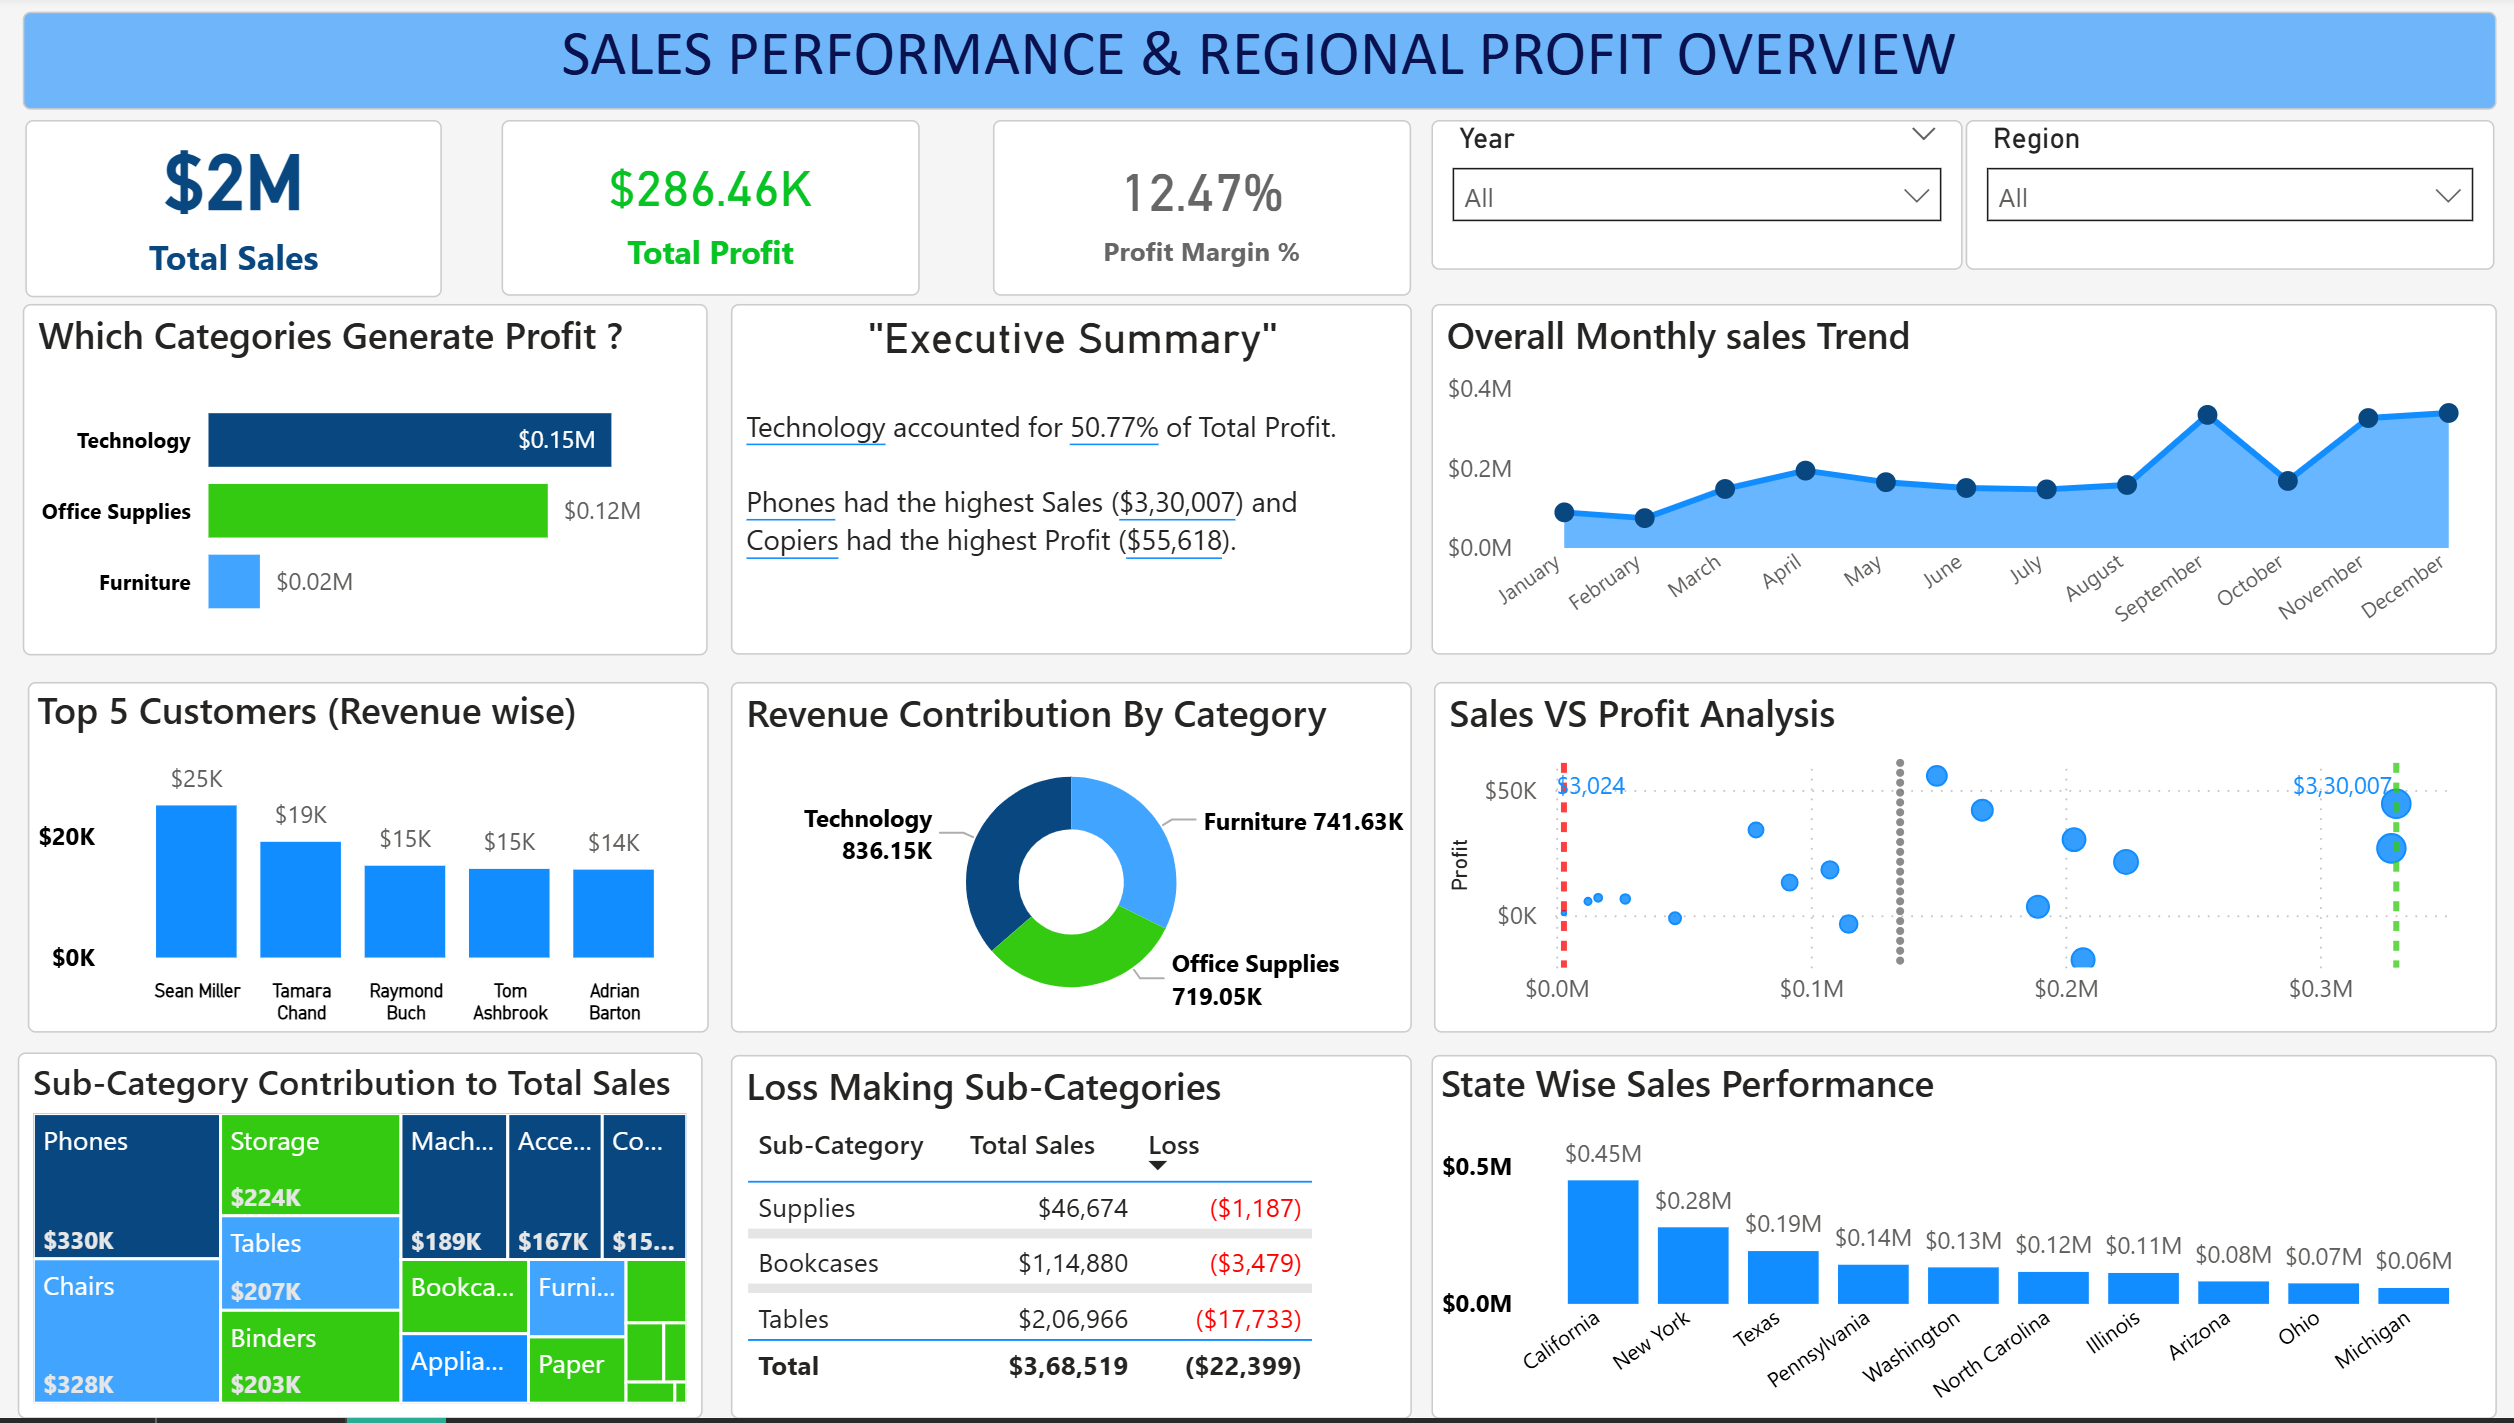

The page's visual inventory and layout, read from the dashboard file:
{"tool":"powerbi","page":{"name":"Page 1","canvas":[1280,720],"ordinal":0},"visuals":[{"type":"barChart","title":"Which Categories Generate Profit ?","fields":{"Category":["products.Category"],"Y":["customers.total_profit"]},"box":[16.9,156.3,346.4,177.8],"z":0},{"type":"card","fields":{"Values":["customers.total_sales"]},"box":[17.3,63.4,210.9,89.9],"z":1000},{"type":"card","fields":{"Values":["customers.total_profit"]},"box":[258.3,63.4,211.4,88.7],"z":2000},{"type":"scatterChart","title":"Sales VS Profit Analysis","fields":{"X":["customers.total_sales"],"Y":["customers.total_profit"],"Size":["customers.total_sales"],"Category":["products.Sub-Category"]},"box":[730.6,348.4,537.5,177.4],"z":3000},{"type":"areaChart","title":"Overall Monthly sales Trend","fields":{"Y":["customers.total_sales"],"Category":["date.Month Name"]},"box":[729.3,156.6,538.8,177.4],"z":4000},{"type":"donutChart","title":"Revenue Contribution By Category","fields":{"Y":["Sum(orders.Sales)"],"Category":["products.Category"]},"box":[374.5,348.4,344.4,177.4],"z":5000},{"type":"card","fields":{"Values":["customers.profit_margin%"]},"box":[507.5,63.4,211.4,88.7],"z":6000},{"type":"tableEx","title":"Loss Making Sub-Categories","fields":{"Values":["products.Sub-Category","Table.total_sales","Table.total_profit"]},"box":[374.5,536.2,344.4,184],"z":7000},{"type":"treemap","title":"Sub-Category Contribution to Total Sales","fields":{"Group":["products.Sub-Category"],"Values":["Table.total_sales"]},"box":[13.8,535,346.4,185.5],"z":8000},{"type":"clusteredColumnChart","title":"State Wise Sales Performance","fields":{"Category":["customers.State"],"Y":["Table.total_sales"]},"box":[729.3,536.2,538.8,184],"z":9000},{"type":"clusteredColumnChart","title":"Top 5 Customers (Revenue wise)","fields":{"Category":["customers.Customer Name"],"Y":["Table.total_sales"]},"box":[19.6,348.4,344.4,177.4],"z":10000},{"type":"textbox","box":[17,9.1,1251.2,49.6],"z":11000},{"type":"slicer","fields":{"Values":["date.Year"]},"box":[729.3,63.4,268.8,75.7],"z":12000},{"type":"slicer","fields":{"Values":["customers.Region"]},"box":[999.4,63.4,267.5,75.7],"z":13000},{"type":"textbox","title":"      \"Executive Summary\"","box":[374.5,156.6,344.4,177.4],"z":14000}]}

Visuals, with their boxes in screenshot pixels (x1, y1, x2, y2), scaled from the page's 1280x720 canvas onto the 2514x1423 screenshot:
"Which Categories Generate Profit ?" barChart: 33 309 714 660
card - customers.total_sales: 34 125 448 303
card - customers.total_profit: 507 125 923 301
"Sales VS Profit Analysis" scatterChart: 1435 689 2491 1039
"Overall Monthly sales Trend" areaChart: 1432 310 2491 660
"Revenue Contribution By Category" donutChart: 736 689 1412 1039
card - customers.profit_margin%: 997 125 1412 301
"Loss Making Sub-Categories" tableEx: 736 1060 1412 1422
"Sub-Category Contribution to Total Sales" treemap: 27 1057 707 1422
"State Wise Sales Performance" clusteredColumnChart: 1432 1060 2491 1422
"Top 5 Customers (Revenue wise)" clusteredColumnChart: 38 689 715 1039
textbox: 33 18 2491 116
slicer - date.Year: 1432 125 1960 275
slicer - customers.Region: 1963 125 2488 275
"      "Executive Summary"" textbox: 736 310 1412 660
